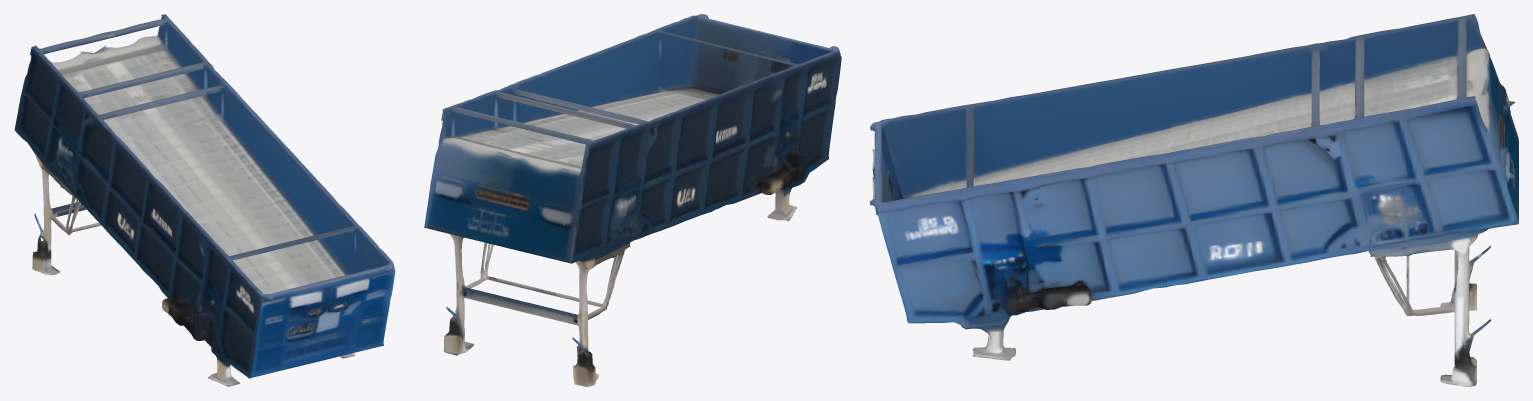
The model's file is Ballistic_Premium_base_basic_shaded.fbx.
3 views of the same model, side by side, from view 1: azimuth 30°, elevation 25°; view 2: azimuth 150°, elevation 25°; view 3: azimuth 270°, elevation 25° (orthographic). The views are drawn at different scales.
Parts seen in each view (by area): view 1: model; view 2: model; view 3: model.
Boxes of the visible parts, x1,y1,x2,y2 form: model: (14,14,395,386); model: (424,14,841,386); model: (870,14,1518,386).
Size of the model in its own units: 75.3 by 91.65 by 187.
